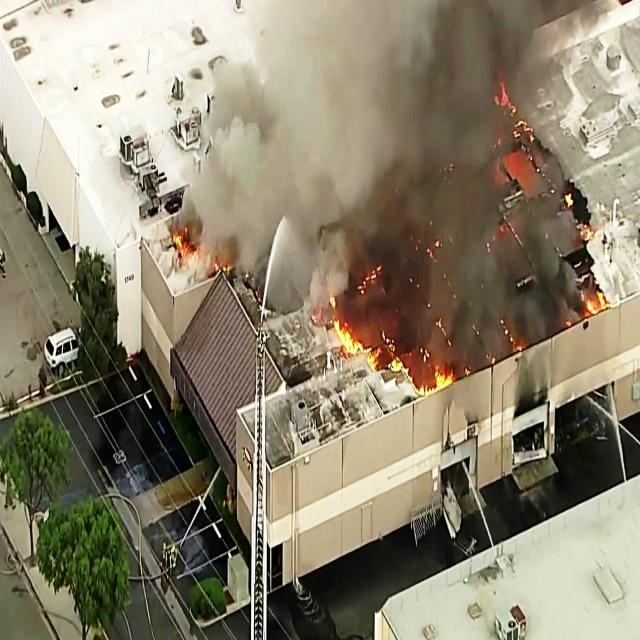Fire: (326, 266, 458, 404), (167, 232, 234, 280)
Smoke: (192, 0, 580, 243), (459, 248, 600, 376)
